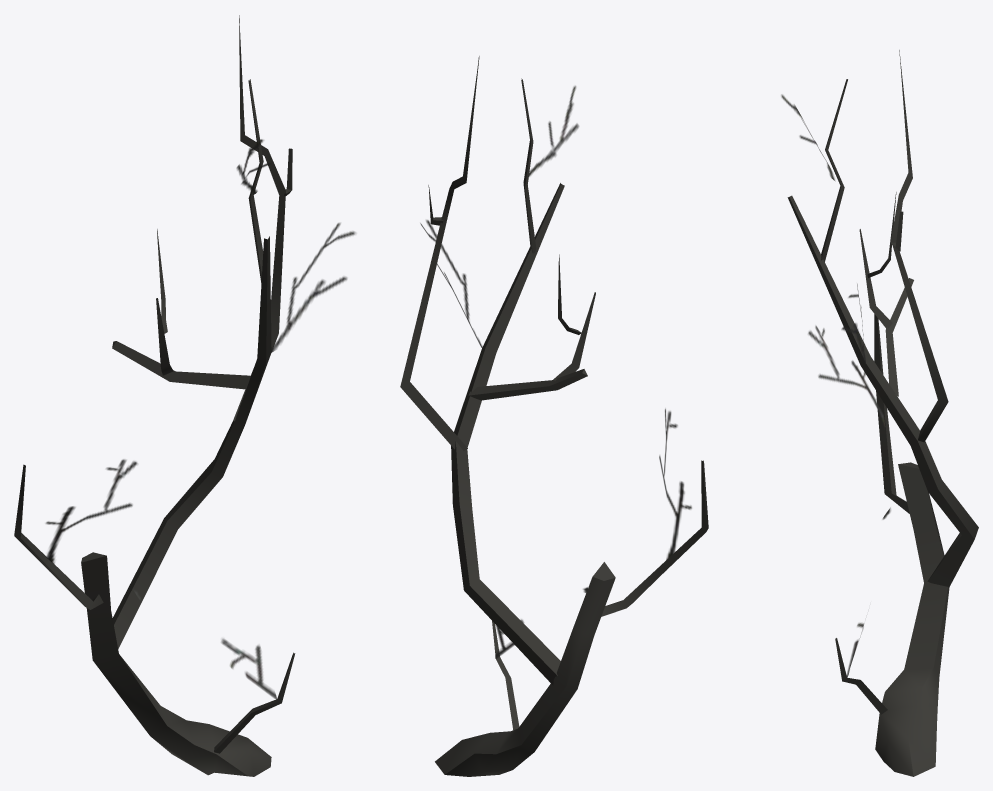
3 views of the same model, side by side, from view 1: azimuth 30°, elevation 25°; view 2: azimuth 150°, elevation 25°; view 3: azimuth 270°, elevation 25° (orthographic). The views are drawn at different scales.
Visible parts, largest first — view 1: body0_model0_lod0_mesh0; view 2: body0_model0_lod0_mesh0; view 3: body0_model0_lod0_mesh0.
Part boxes in pixels (left/top/right/bottom): body0_model0_lod0_mesh0: left=14, top=15, right=355, bottom=776; body0_model0_lod0_mesh0: left=400, top=56, right=708, bottom=776; body0_model0_lod0_mesh0: left=781, top=50, right=978, bottom=776.
Bounding box in the file's own units: 36 × 77.63 × 23.24.
1 material, 1 textured.
